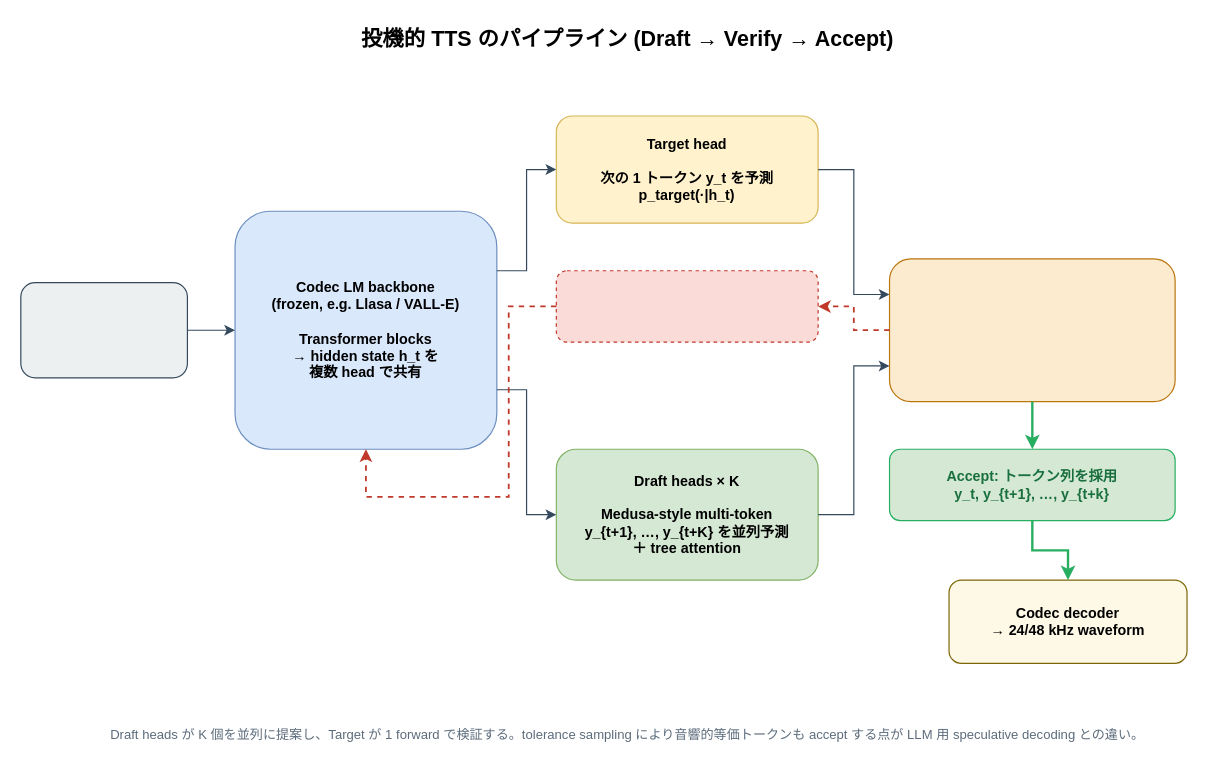
Some shapes in this 1208 by 778 pixel diagram are drawn without their labels. The shapes that lost their labels are listed below. From the top down, each one's centre as x and y in pixels, then its label:
the point at 686,306: Reject (rollback) 不一致箇所まで戻す
the point at 103,329: 入力テキスト "こんにちは、…"
the point at 1031,330: Verifier (1 forward) Target が候補ツリーを並列検証 tolerance sampling で 音響的に近ければ accept
